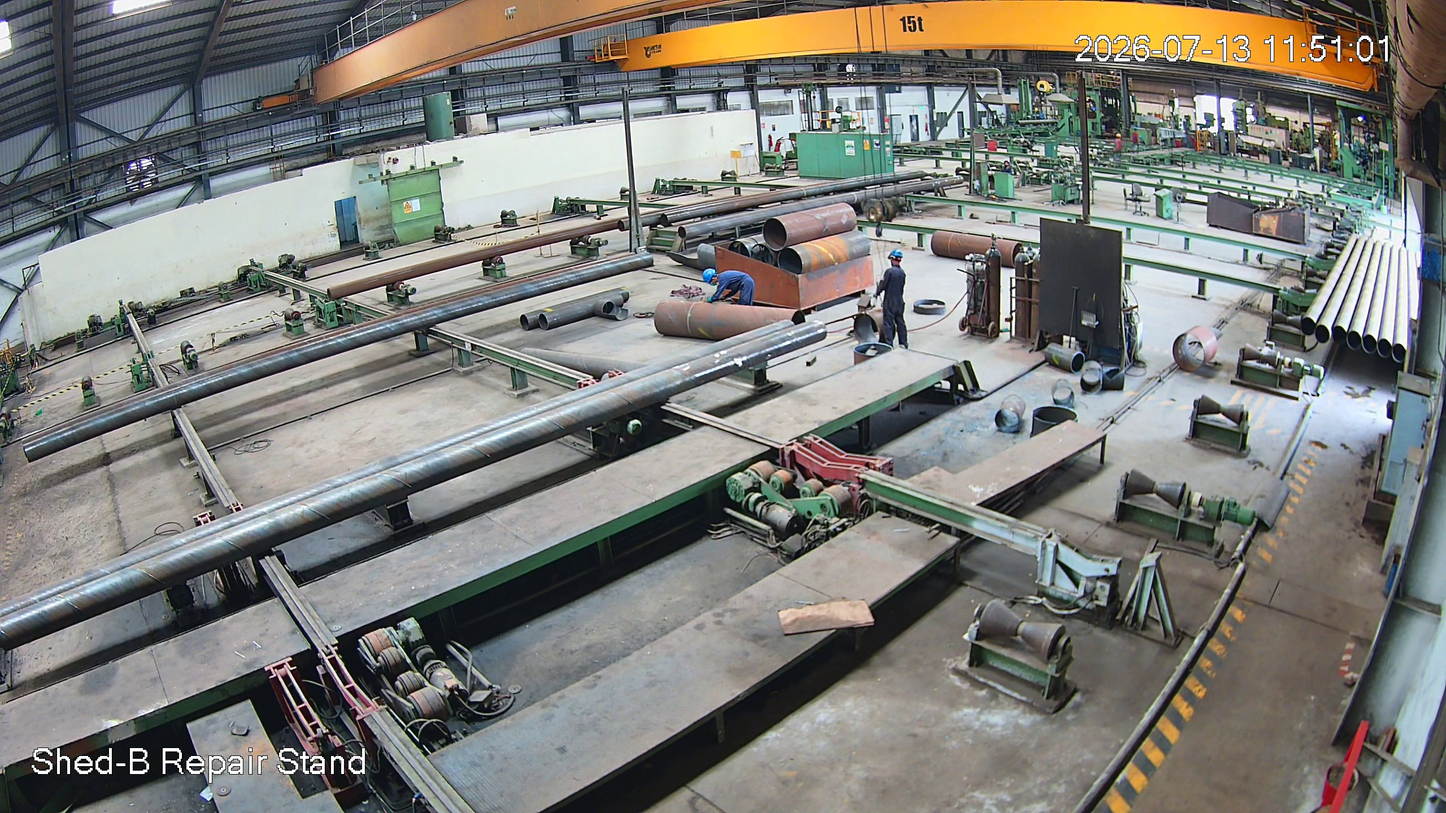Helmet: (886, 248, 909, 270), (699, 266, 722, 287)
Person: (878, 250, 910, 352), (701, 268, 755, 307)
